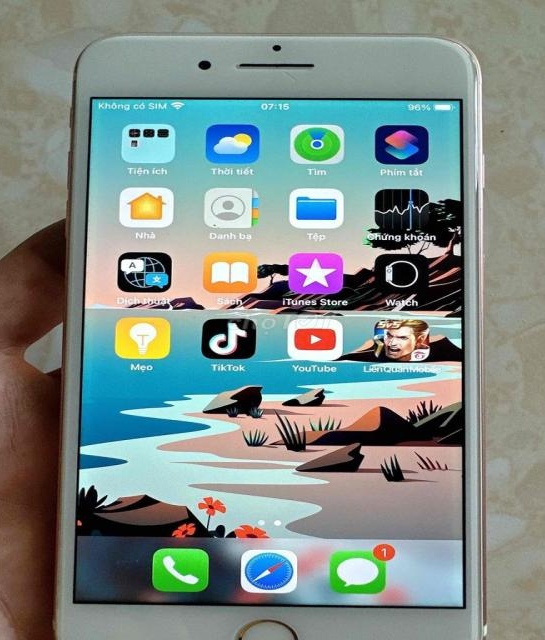scratch: (279, 67, 313, 86)
